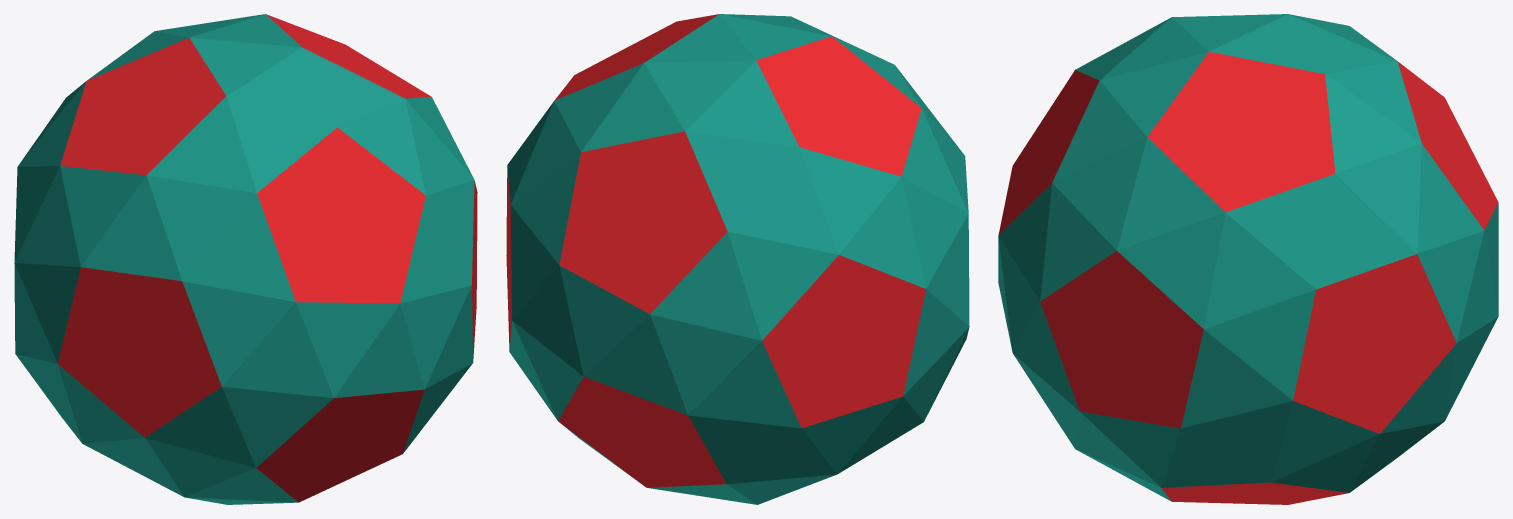
File: s-dodecahedron.fbx
The picture shows the model from 3 angles, left to right: view 1: azimuth 30°, elevation 25°; view 2: azimuth 150°, elevation 25°; view 3: azimuth 270°, elevation 25°; orthographic projection. The views are drawn at different scales.
Visible parts, largest first — view 1: Solid; view 2: Solid; view 3: Solid.
Part boxes in pixels (x1=…): Solid: x1=14, y1=14, x2=477, y2=504; Solid: x1=506, y1=14, x2=969, y2=504; Solid: x1=998, y1=14, x2=1498, y2=504.
Bounding box in the file's own units: 168 × 168 × 168.
